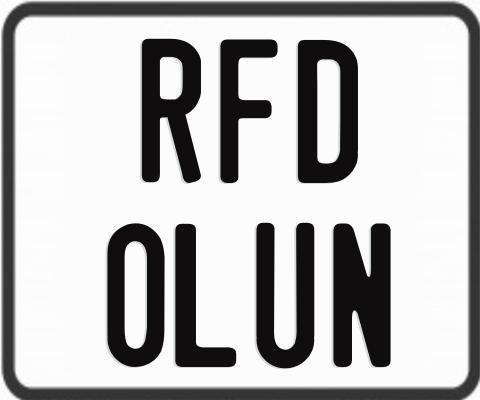0: (106, 220, 167, 370)
D: (296, 37, 357, 186)
F: (217, 39, 280, 187)
L: (173, 222, 236, 369)
N: (331, 222, 391, 367)
R: (140, 37, 204, 186)
U: (254, 221, 316, 367)
